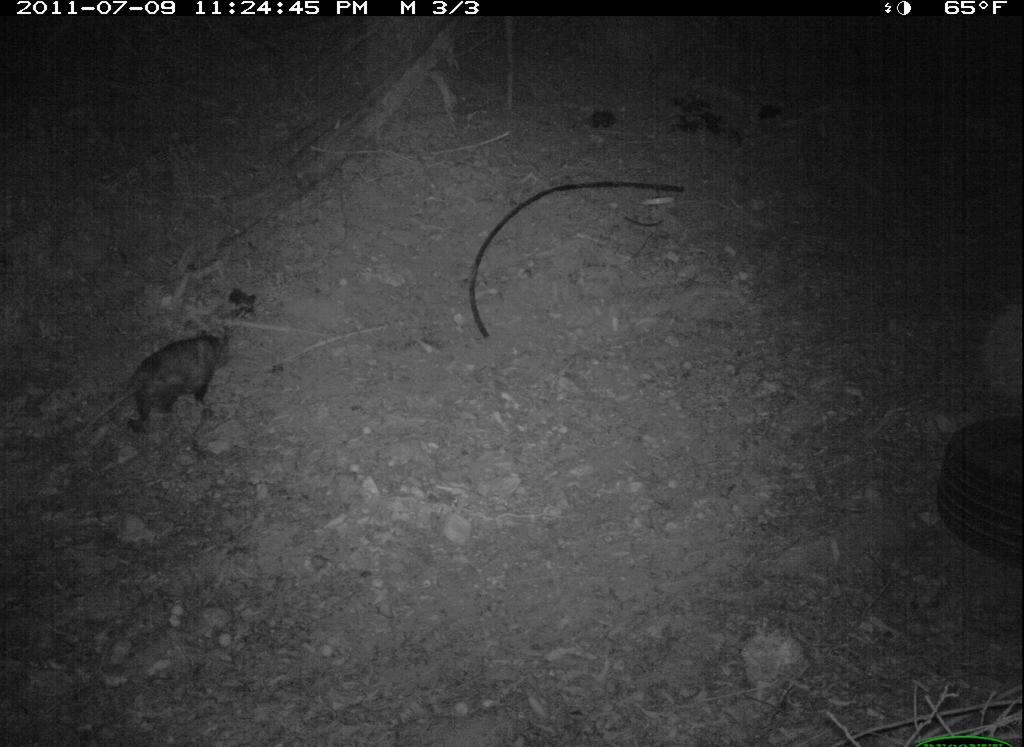opossum: (77, 327, 239, 459)
